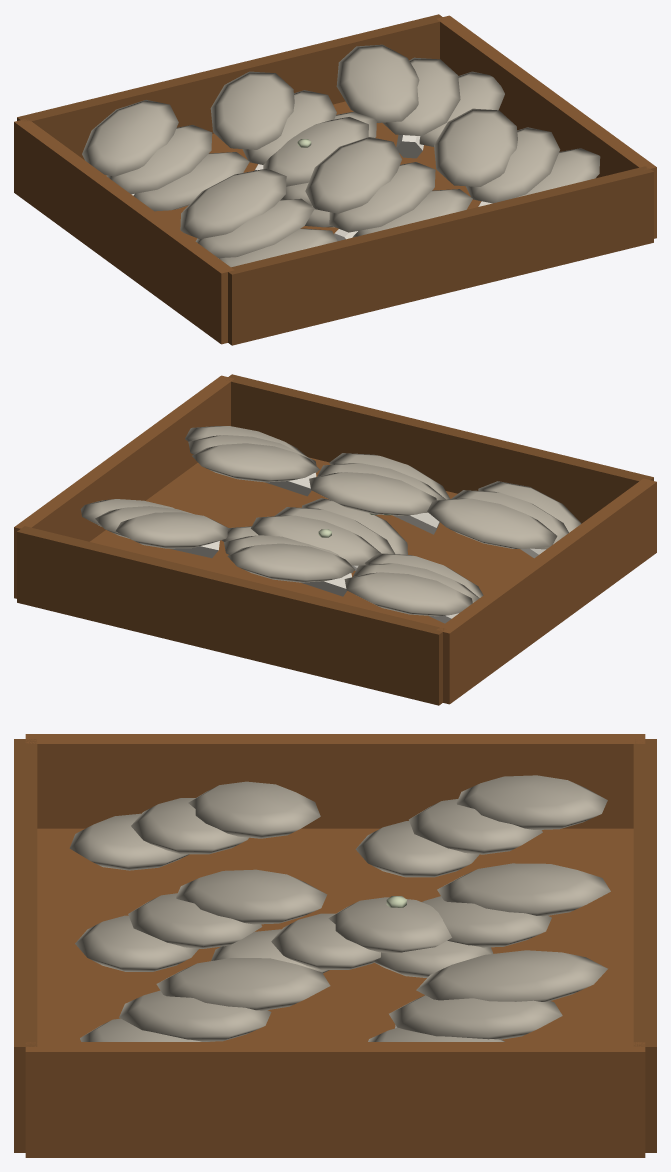
File: Mush_Oyster.fbx
3 views of the same model, one above another, from view 1: azimuth 30°, elevation 25°; view 2: azimuth 150°, elevation 25°; view 3: azimuth 270°, elevation 25° (orthographic). The views are drawn at different scales.
Visible parts, largest first — view 1: Mush_Oyster__Stack, Mush_Oyster; view 2: Mush_Oyster__Stack, Mush_Oyster; view 3: Mush_Oyster__Stack, Mush_Oyster.
Boxes of the visible parts, x1=… form: Mush_Oyster__Stack: x1=14, y1=14, x2=656, y2=345; Mush_Oyster: x1=263, y1=117, x2=368, y2=227; Mush_Oyster__Stack: x1=14, y1=374, x2=656, y2=705; Mush_Oyster: x1=251, y1=498, x2=407, y2=570; Mush_Oyster__Stack: x1=14, y1=734, x2=656, y2=1157; Mush_Oyster: x1=211, y1=897, x2=451, y2=973.
Size of the model in its own units: 0.2571 by 0.0445 by 0.2198.
